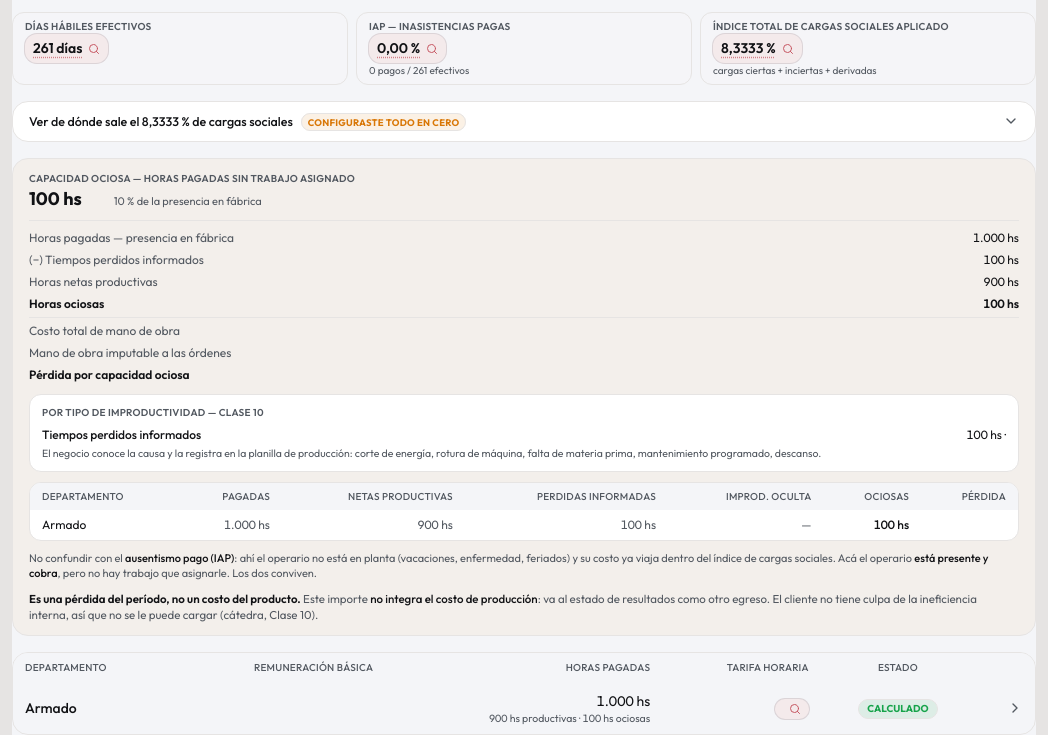
it: hoja de MOD — la capacidad ociosa tiene su propia línea › en la ficha del departamento, la tarifa dice sobre qué horas se calculó
The image size is (1048, 735).
(page scrolled)
Click the button "Armado".
click(524, 708)  # box x1=13 y1=683 x2=1035 y2=734
(page scrolled)
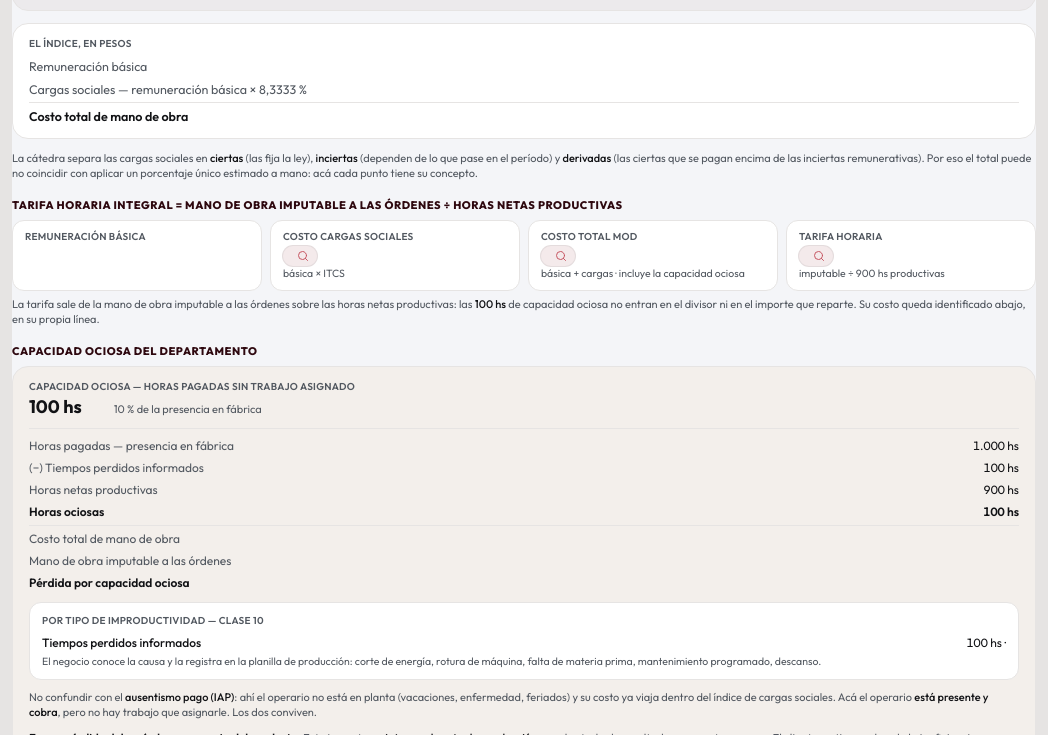
Now the heading "mano de obra imputable a las órdenes ÷ horas netas productivas" is shown, box x1=12 y1=198 x2=623 y2=212
Now the heading "Capacidad ociosa del departamento" is shown, box x1=12 y1=344 x2=258 y2=358
